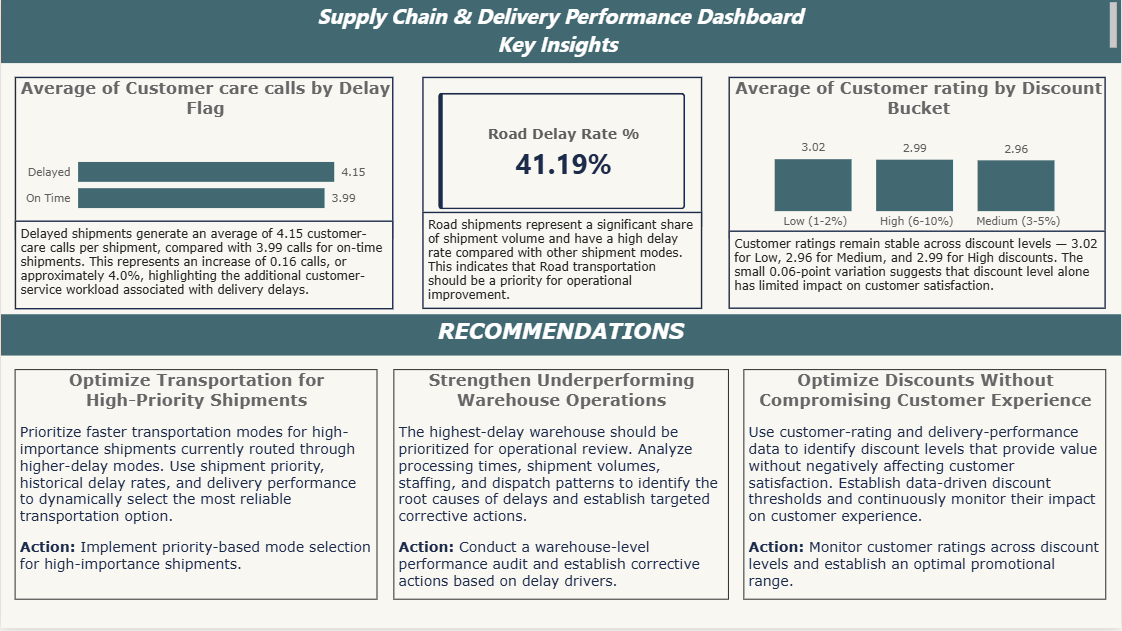

Layout of this report page (visuals, bound fields, positions):
{"tool":"powerbi","page":{"name":"key insights & recommendations","canvas":[1280,720],"ordinal":4},"visuals":[{"type":"textbox","box":[0,0,1280,74.3],"z":0},{"type":"clusteredBarChart","fields":{"Category":["Shipments.Delay Flag"],"Y":["Avg(Shipments.Customer care calls)"]},"box":[15.7,90,432.9,185.7],"z":0,"group":"g1"},{"type":"cardVisual","fields":{"Data":["Shipments.Road Delay Rate %"]},"box":[481.4,90,320,171.4],"z":0,"group":"g2"},{"type":"clusteredColumnChart","fields":{"Y":["Avg(Shipments.Customer rating)"],"Category":["Shipments.Discount Bucket"]},"box":[831.4,90,431.4,185],"z":0,"group":"g3"},{"type":"group","id":"g1","title":"Group 1","box":[15.7,90,432.9,265.7],"z":1000},{"type":"textbox","box":[481.4,244.3,320,111.4],"z":1000,"group":"g2"},{"type":"textbox","box":[15.7,254.3,432.9,101.4],"z":1000,"group":"g1"},{"type":"textbox","box":[831.4,266.2,431.4,89.6],"z":1000,"group":"g3"},{"type":"group","id":"g2","title":"Group 2","box":[481.4,90,320,265.7],"z":2000},{"type":"group","id":"g3","title":"Group 3","box":[831.4,90,431.4,265.7],"z":3000},{"type":"textbox","box":[0,361.4,1280,47.1],"z":4000},{"type":"textbox","title":"Optimize Transportation for High-Priority Shipments","box":[15.7,424.3,414.3,262.9],"z":5000},{"type":"textbox","title":"Strengthen Underperforming Warehouse Operations","box":[448.6,424.3,382.9,262.9],"z":6000},{"type":"textbox","title":"Optimize Discounts Without Compromising Customer Experience","box":[848.6,424.3,414.3,262.9],"z":7000}]}

Visuals, with their boxes in screenshot pixels (x1, y1, x2, y2), scaled from the page's 1280x720 canvas onto the 1122x631 screenshot:
textbox: (0,0,1121,65)
clusteredBarChart - Shipments.Delay Flag x Avg(Shipments.Customer care calls): (14,79,393,242)
cardVisual - Shipments.Road Delay Rate %: (422,79,702,229)
clusteredColumnChart - Avg(Shipments.Customer rating) x Shipments.Discount Bucket: (729,79,1107,241)
"Group 1" group: (14,79,393,312)
textbox: (422,214,702,312)
textbox: (14,223,393,312)
textbox: (729,233,1107,312)
"Group 2" group: (422,79,702,312)
"Group 3" group: (729,79,1107,312)
textbox: (0,317,1121,358)
"Optimize Transportation for High-Priority Shipments" textbox: (14,372,377,602)
"Strengthen Underperforming Warehouse Operations" textbox: (393,372,729,602)
"Optimize Discounts Without Compromising Customer Experience" textbox: (744,372,1107,602)
